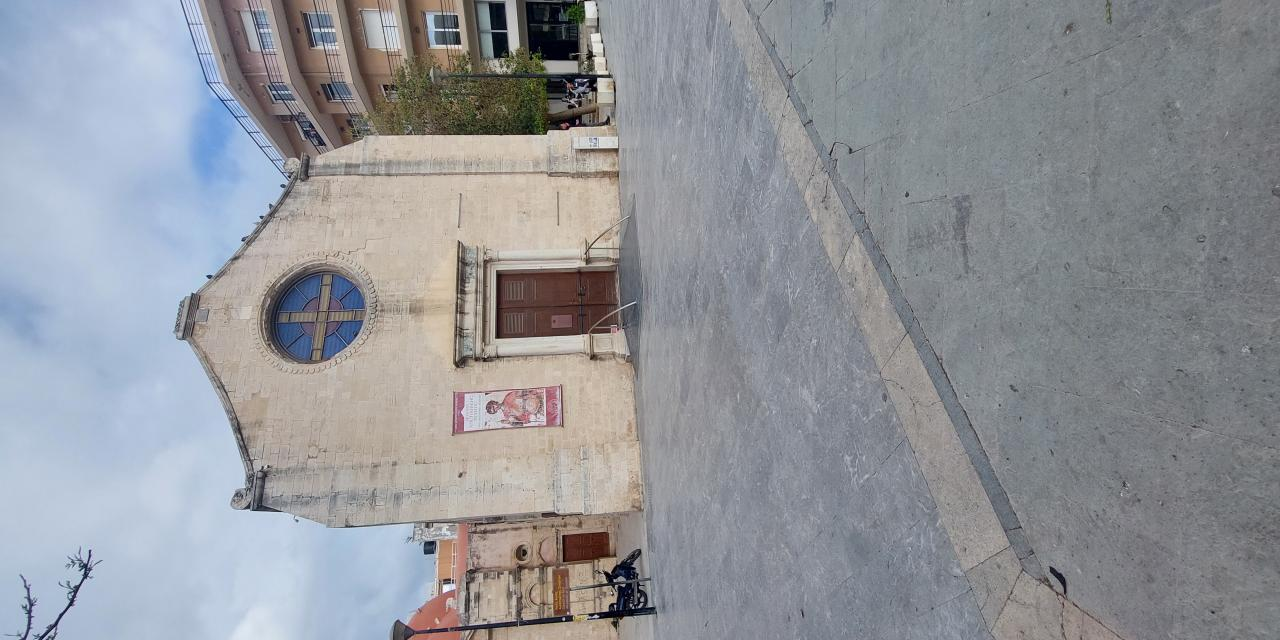Agia Aikaterini: (95, 197, 471, 640)
